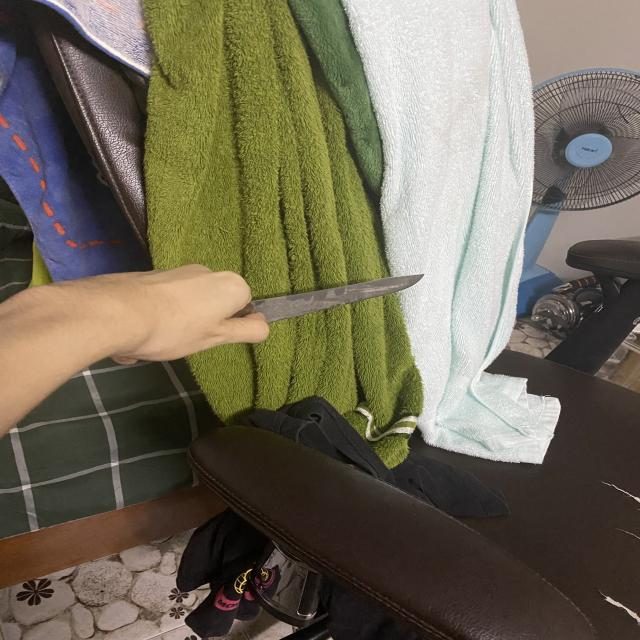faca: (115, 256, 428, 360)
